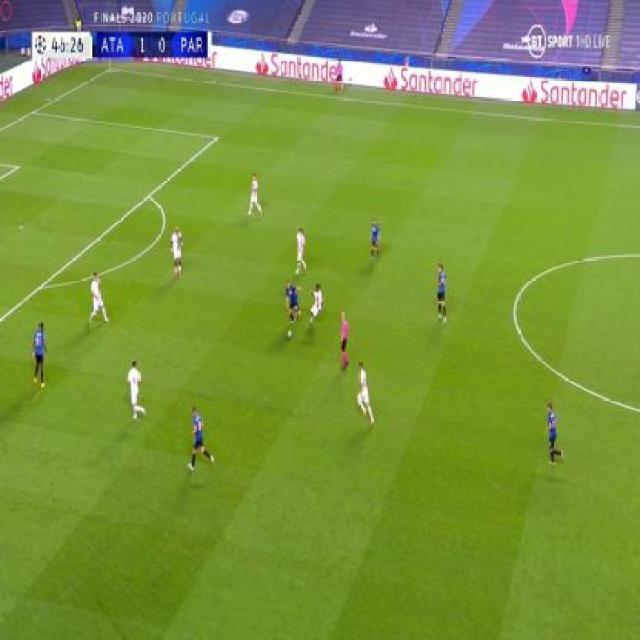ball: (287, 323, 293, 340)
player: (183, 405, 212, 479), (542, 399, 568, 470), (431, 260, 453, 331), (355, 356, 375, 429), (124, 357, 147, 420), (332, 308, 352, 377), (88, 270, 110, 326), (33, 322, 50, 390), (247, 171, 266, 219), (283, 276, 302, 322), (170, 221, 184, 280), (306, 282, 325, 324), (367, 217, 383, 266), (292, 223, 308, 272), (334, 56, 345, 96)
